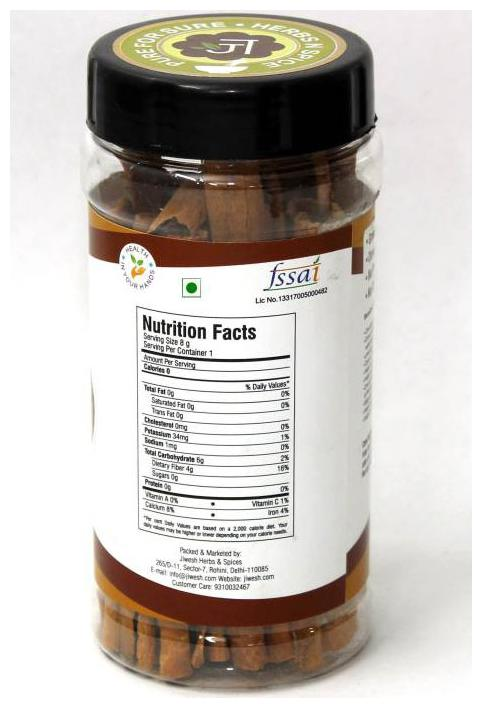fssai: (264, 254, 325, 292)
